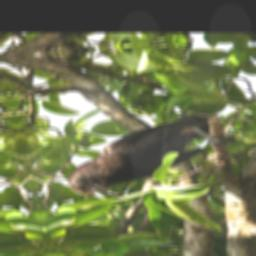Crow: (50, 111, 240, 205)
